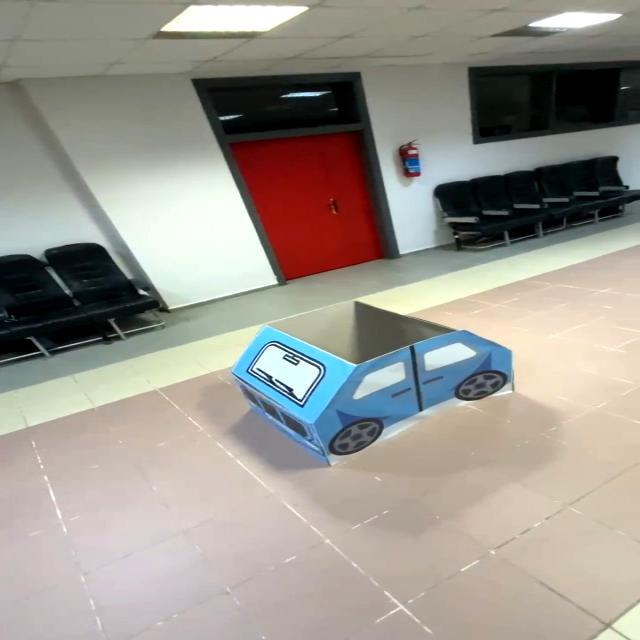blue_car: (187, 276, 533, 485)
